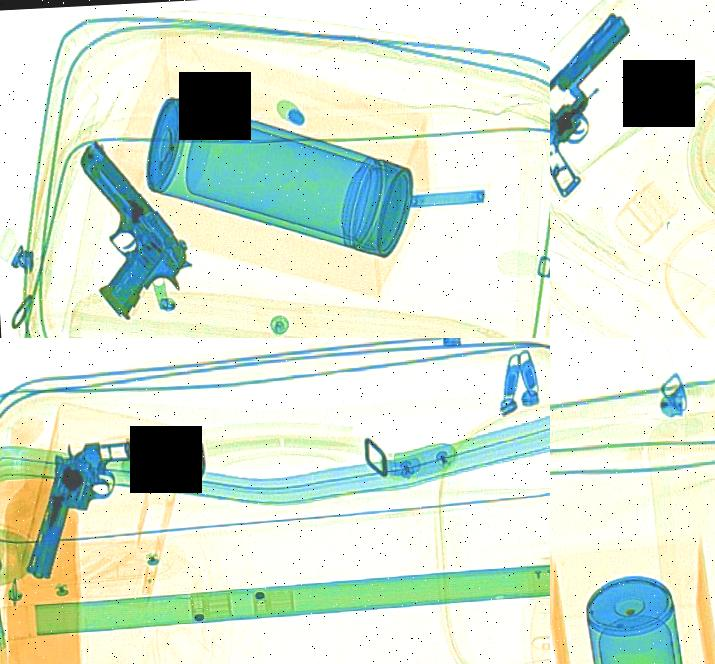Gun: (11, 130, 215, 326), (550, 3, 700, 201), (4, 419, 168, 592)
